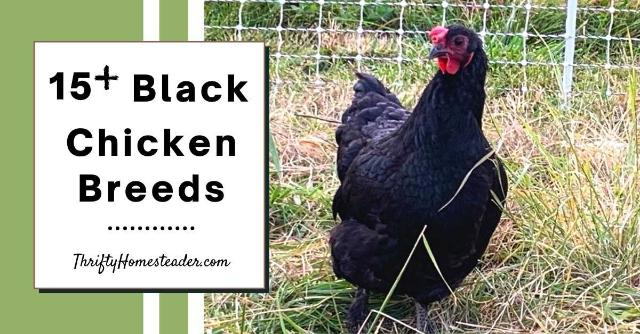Chicken: (328, 24, 507, 334)
